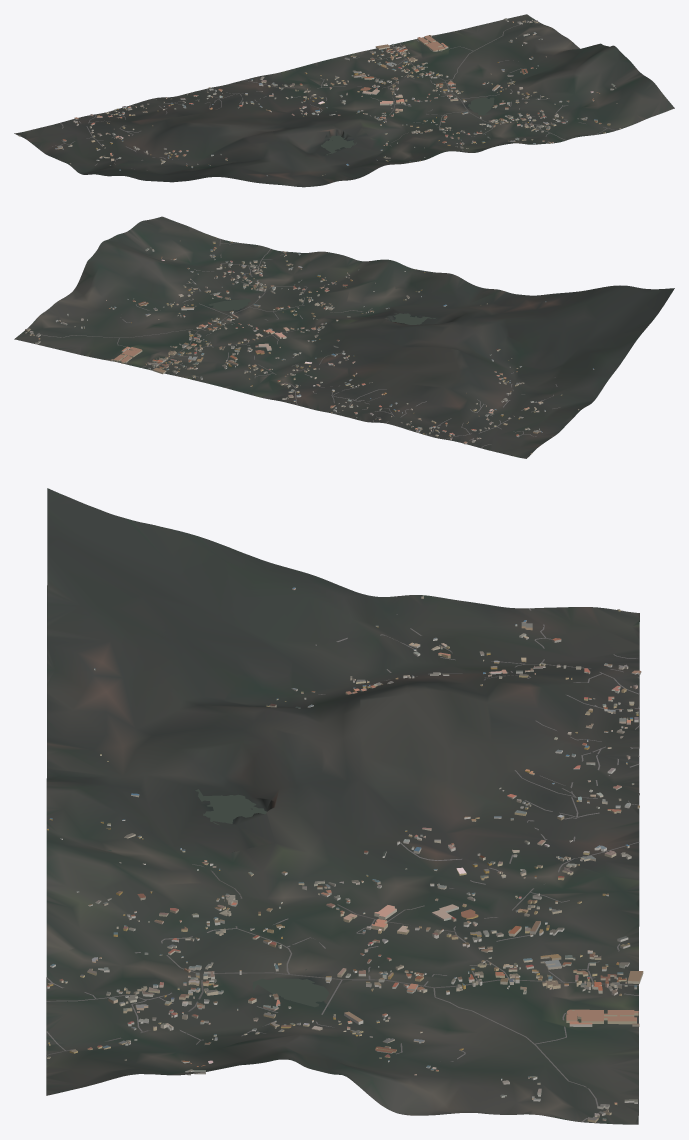
The picture shows the model from 3 angles, top to bottom: view 1: azimuth 30°, elevation 25°; view 2: azimuth 150°, elevation 25°; view 3: azimuth 270°, elevation 25°; orthographic projection. The views are drawn at different scales.
Parts seen in each view (by area): view 1: ground, buildings, roads, water; view 2: ground, buildings, roads, water; view 3: ground, buildings, roads, water.
Boxes of the visible parts, x1,y1,x2,y2 form: ground: (14, 14, 674, 187); buildings: (19, 18, 621, 175); roads: (18, 23, 617, 170); water: (321, 97, 494, 157); ground: (14, 216, 674, 458); buildings: (24, 237, 594, 454); roads: (28, 238, 560, 454); water: (208, 288, 435, 324); ground: (46, 488, 639, 1124); buildings: (47, 587, 643, 1122); roads: (46, 596, 639, 1122); water: (107, 789, 328, 1007).
Bounding box in the file's own units: 2804 × 358 × 1414.
